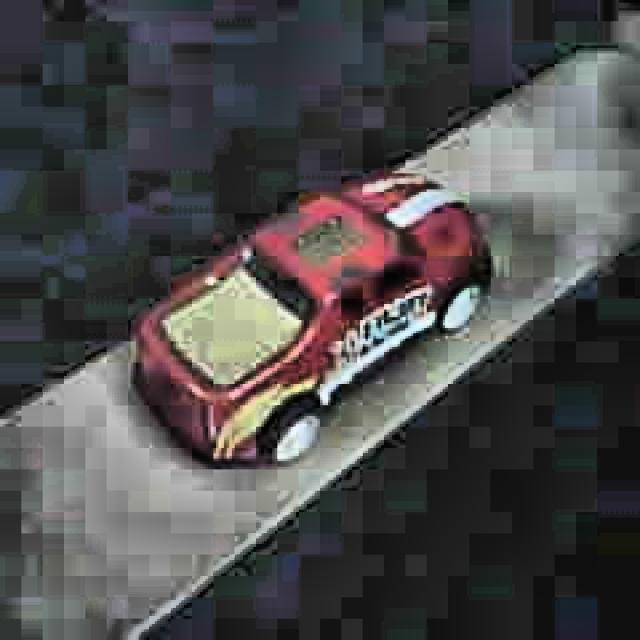car: (132, 166, 492, 471)
